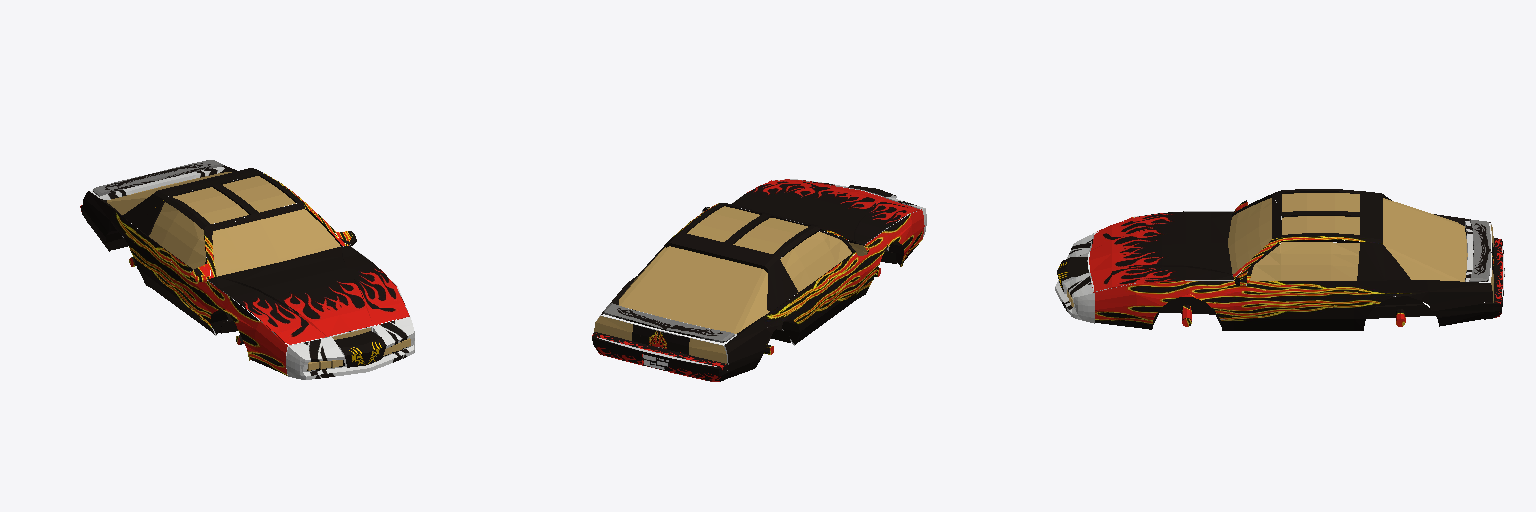
The picture shows the model from 3 angles: view 1: azimuth 30°, elevation 25°; view 2: azimuth 150°, elevation 25°; view 3: azimuth 270°, elevation 25°; orthographic projection.
Parts seen in each view (by area): view 1: Box01, Box01.001, Box25, Box12, Box11, Box16, Box06; view 2: Box25, Box01, Box01.001, Box13, Box16, Box21, Box28; view 3: Box01.002, Box25, Box01.001, Box01, Box12, Box16, Box38, Box13, Box11.
Boxes of the visible parts, x1,y1,x2,y2 form: Box01: [82, 168, 409, 375]; Box01.001: [209, 246, 406, 344]; Box25: [107, 172, 340, 276]; Box12: [286, 317, 414, 379]; Box11: [334, 331, 386, 367]; Box16: [93, 160, 223, 196]; Box06: [90, 167, 224, 199]; Box25: [619, 206, 851, 333]; Box01: [597, 179, 924, 379]; Box01.001: [732, 180, 919, 244]; Box13: [592, 332, 727, 381]; Box16: [603, 303, 734, 342]; Box21: [594, 316, 726, 363]; Box28: [640, 327, 681, 352]; Box01.002: [1094, 236, 1492, 330]; Box25: [1228, 193, 1467, 281]; Box01.001: [1089, 212, 1234, 290]; Box01: [1087, 189, 1491, 328]; Box12: [1055, 234, 1094, 323]; Box16: [1469, 219, 1491, 281]; Box38: [1153, 304, 1434, 326]; Box13: [1484, 238, 1504, 319]; Box11: [1057, 257, 1091, 293].
Bounding box in the file's own units: 15.27 × 7.68 × 35.89.
Materials: 9 (1 with a texture image).